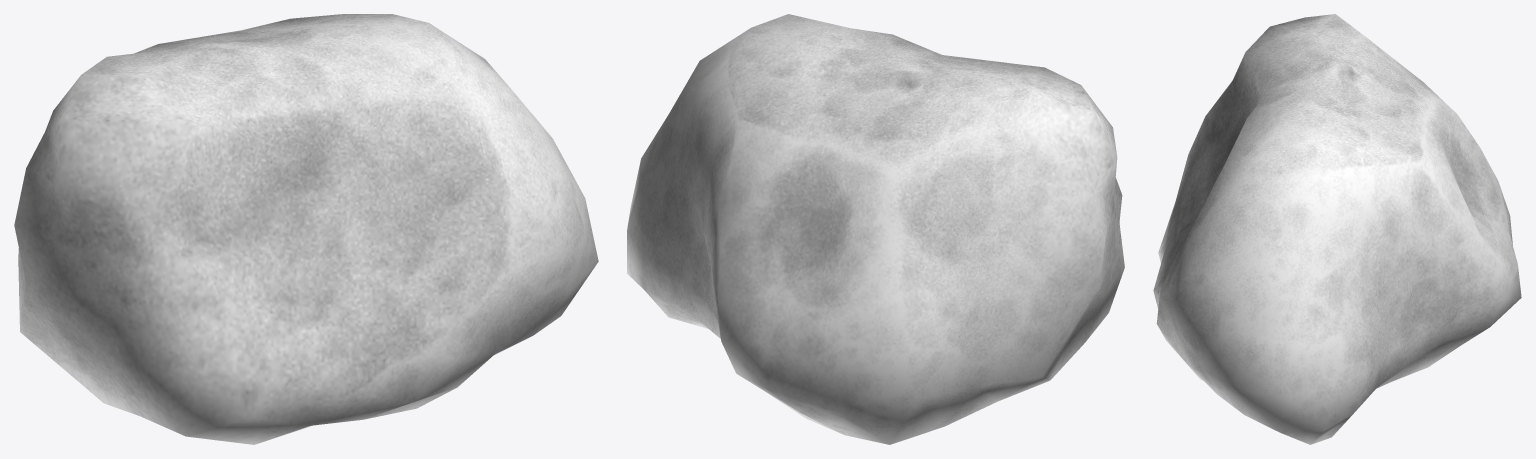
File: Rock-4.fbx
3 renders of one model, left to right at view 1: azimuth 30°, elevation 25°; view 2: azimuth 150°, elevation 25°; view 3: azimuth 270°, elevation 25°, orthographic. The views are drawn at different scales.
Visible parts, largest first — view 1: Cube.000; view 2: Cube.000; view 3: Cube.000.
Boxes of the visible parts, bbox=[...] form: Cube.000: bbox=[14, 14, 598, 444]; Cube.000: bbox=[627, 14, 1124, 444]; Cube.000: bbox=[1153, 14, 1521, 444].
Bounding box in the file's own units: 192 × 124 × 143.
